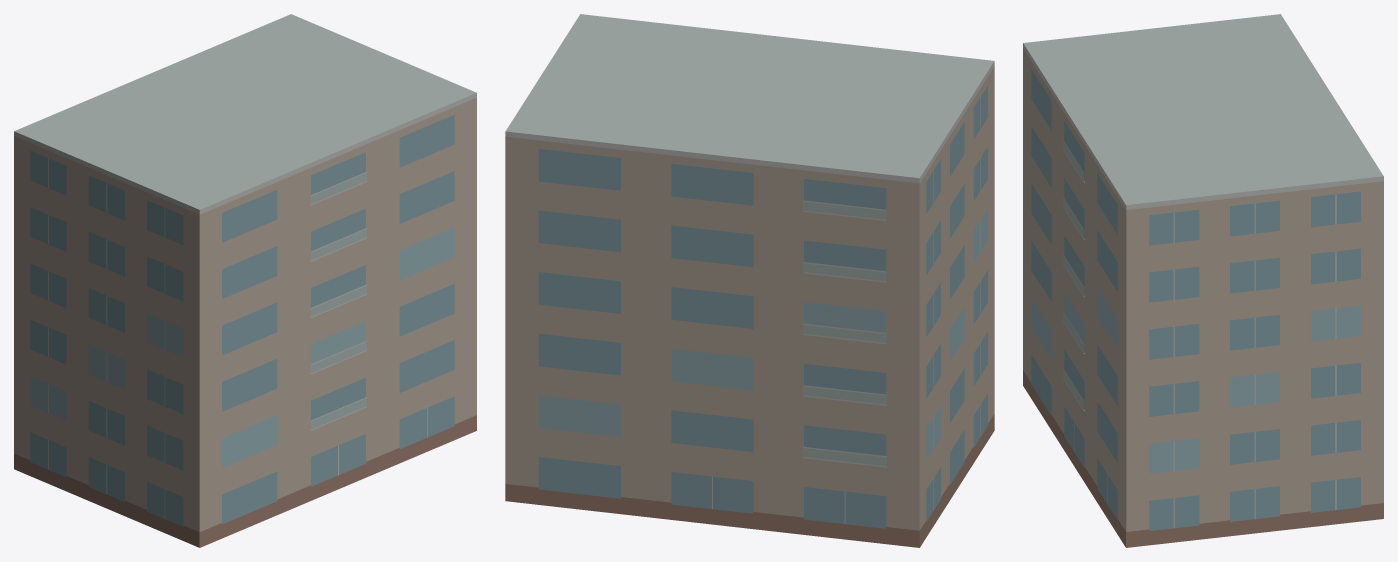
Rendered from survey-upis-32653633.glb.
The picture shows the model from 3 angles, left to right: view 1: azimuth 30°, elevation 25°; view 2: azimuth 150°, elevation 25°; view 3: azimuth 270°, elevation 25°; orthographic projection. The views are drawn at different scales.
Visible parts, largest first — view 1: survey-upis-32653633.tmp; view 2: survey-upis-32653633.tmp; view 3: survey-upis-32653633.tmp.
Boxes of the visible parts, box(x1,y1,x2,y2) form: survey-upis-32653633.tmp: box(14, 14, 476, 547); survey-upis-32653633.tmp: box(505, 14, 994, 547); survey-upis-32653633.tmp: box(1023, 14, 1383, 547).
Size of the model in its own units: 20.6 by 17.2 by 16.42.
